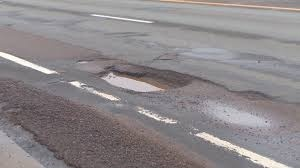pothole: (98, 67, 191, 92), (208, 78, 274, 104), (75, 55, 93, 62)
